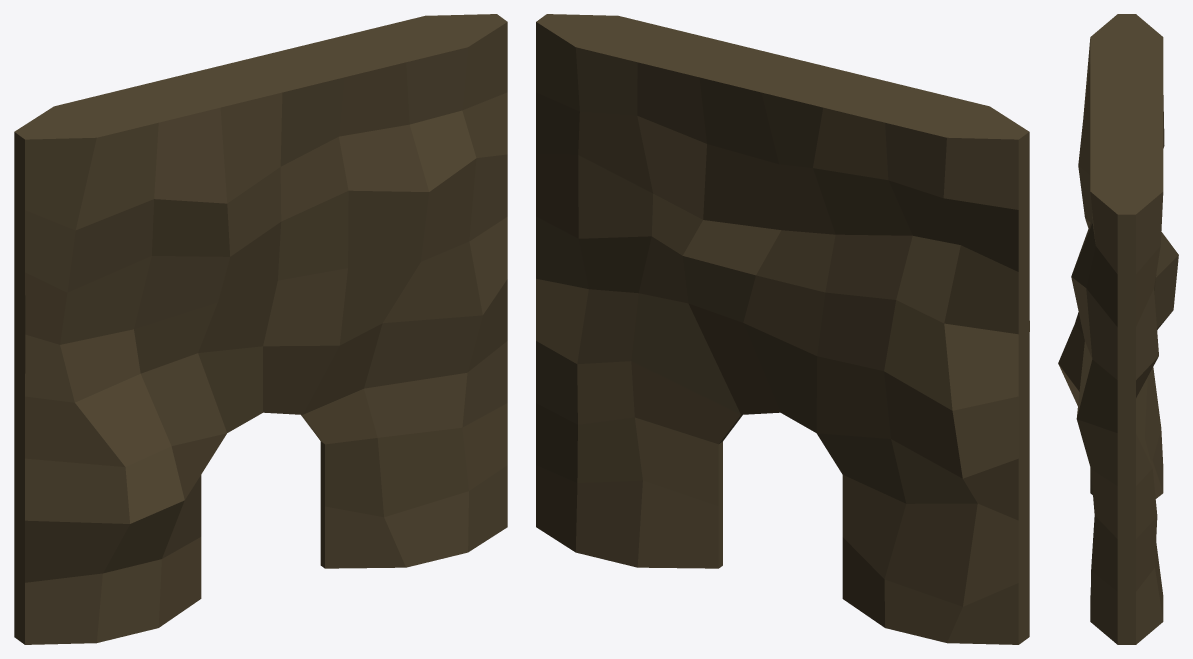
File: BigOpening.S.fbx
3 views of the same model, side by side, from view 1: azimuth 30°, elevation 25°; view 2: azimuth 150°, elevation 25°; view 3: azimuth 270°, elevation 25° (orthographic). The views are drawn at different scales.
Visible parts, largest first — view 1: Big_Wall Opening.S; view 2: Big_Wall Opening.S; view 3: Big_Wall Opening.S.
Boxes of the visible parts, x1=… form: Big_Wall Opening.S: x1=14, y1=14, x2=507, y2=644; Big_Wall Opening.S: x1=536, y1=14, x2=1029, y2=644; Big_Wall Opening.S: x1=1058, y1=14, x2=1178, y2=644.
Size of the model in its own units: 1299 by 1300 by 331.
